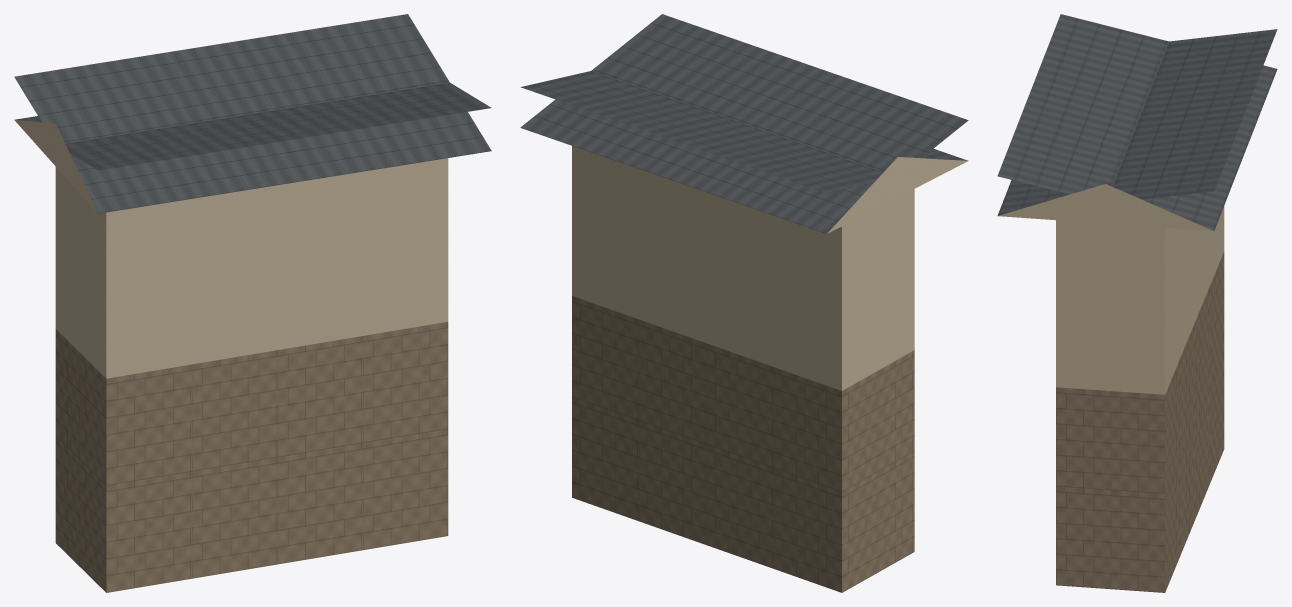
The model's file is bld_c36_-29_440.gltf.
The picture shows the model from 3 angles, left to right: view 1: azimuth 30°, elevation 25°; view 2: azimuth 150°, elevation 25°; view 3: azimuth 270°, elevation 25°; orthographic projection. The views are drawn at different scales.
Parts seen in each view (by area): view 1: bld_c36_-29_440; view 2: bld_c36_-29_440; view 3: bld_c36_-29_440.
Boxes of the visible parts, <box> form: bld_c36_-29_440: <box>14,14,491,592</box>; bld_c36_-29_440: <box>520,14,968,592</box>; bld_c36_-29_440: <box>997,14,1277,592</box>.
Bounding box in the file's own units: 9.55 × 10.4 × 6.37.
Materials: 4 (4 with a texture image).
